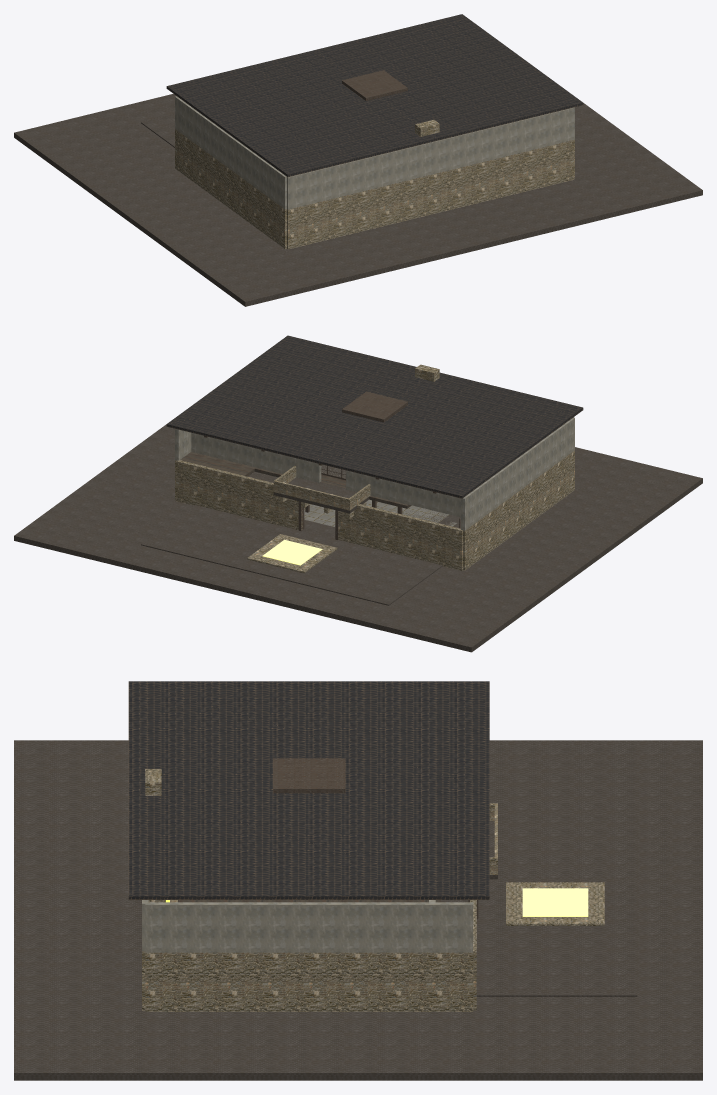
The model's file is villa_auren.glb.
The picture shows the model from 3 angles, top to bottom: view 1: azimuth 30°, elevation 25°; view 2: azimuth 150°, elevation 25°; view 3: azimuth 270°, elevation 25°; orthographic projection. The views are drawn at different scales.
Parts seen in each view (by area): view 1: VillaAuren_Merged; view 2: VillaAuren_Merged; view 3: VillaAuren_Merged.
Part boxes in pixels (box(x1,y1,x2,y2)): VillaAuren_Merged: box(14, 14, 702, 306); VillaAuren_Merged: box(14, 335, 702, 652); VillaAuren_Merged: box(14, 681, 702, 1080).
Bounding box in the file's own units: 48 × 12.85 × 42.
Materials: 14 (8 with a texture image).
